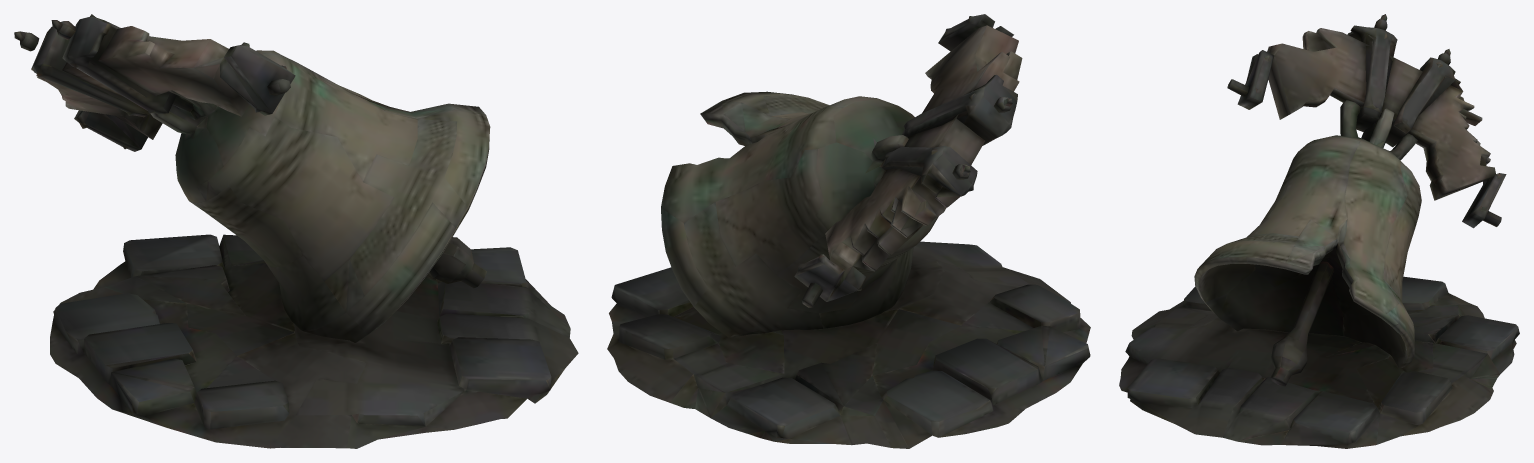
The model's file is sunken_bell.glb.
3 views of the same model, side by side, from view 1: azimuth 30°, elevation 25°; view 2: azimuth 150°, elevation 25°; view 3: azimuth 270°, elevation 25° (orthographic). The views are drawn at different scales.
Parts seen in each view (by area): view 1: tripo_node_7287d71f-513f-49ed-9277-15af9fd90f0e; view 2: tripo_node_7287d71f-513f-49ed-9277-15af9fd90f0e; view 3: tripo_node_7287d71f-513f-49ed-9277-15af9fd90f0e.
Part boxes in pixels (<box>): tripo_node_7287d71f-513f-49ed-9277-15af9fd90f0e: <box>14,14,578,448</box>; tripo_node_7287d71f-513f-49ed-9277-15af9fd90f0e: <box>607,14,1090,448</box>; tripo_node_7287d71f-513f-49ed-9277-15af9fd90f0e: <box>1119,14,1519,448</box>.
Bounding box in the file's own units: 0.998 × 0.7519 × 0.998.
1 material, 1 textured.
